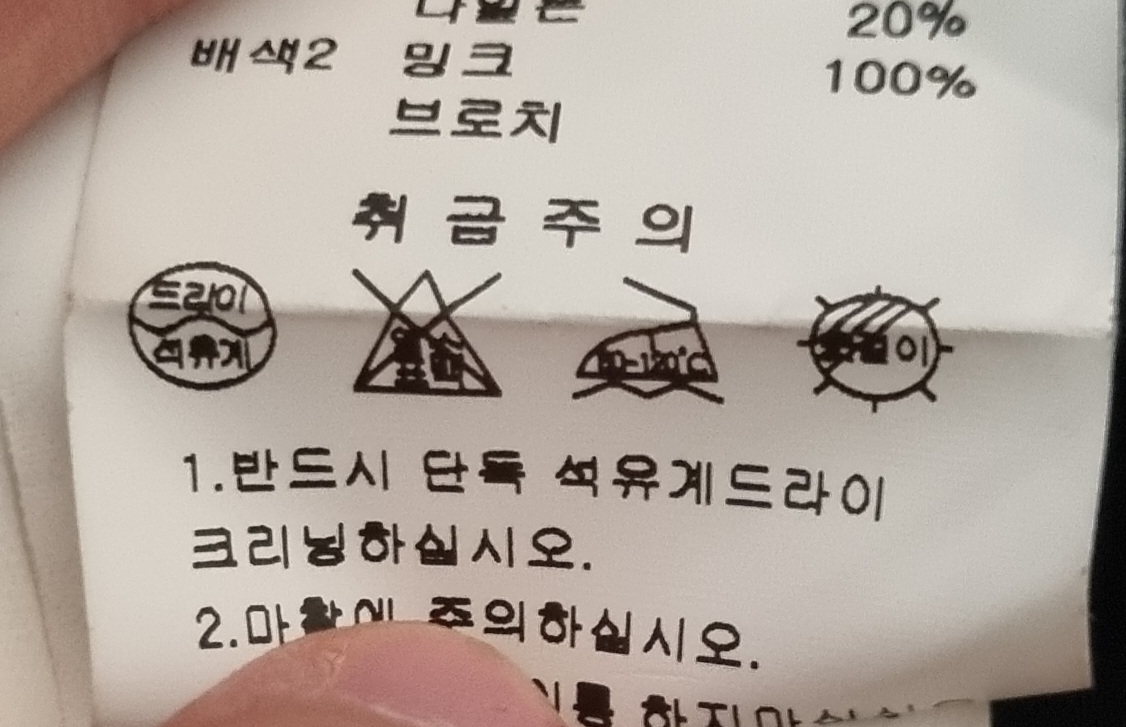ER_flat_dry: (117, 251, 290, 402)
ER_hand_wash: (795, 273, 958, 428)
ER_no_tumble_dry: (564, 264, 733, 419)
ER_wash_60: (339, 249, 517, 417)
